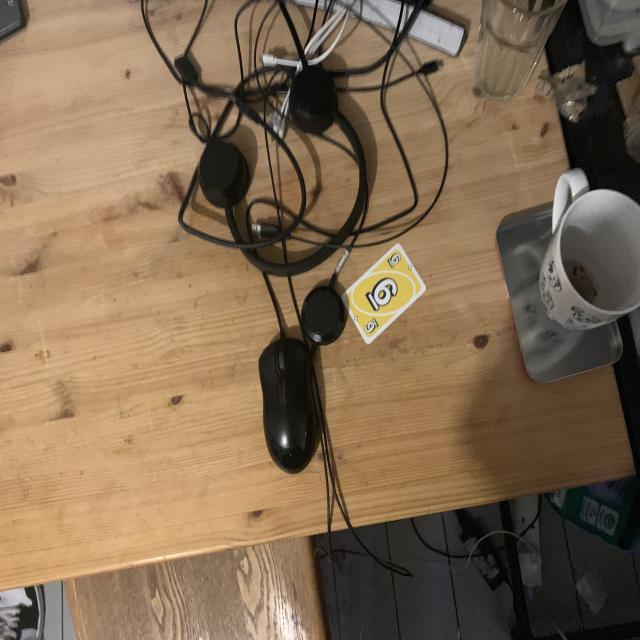lyellow-6: (387, 252, 403, 270)
